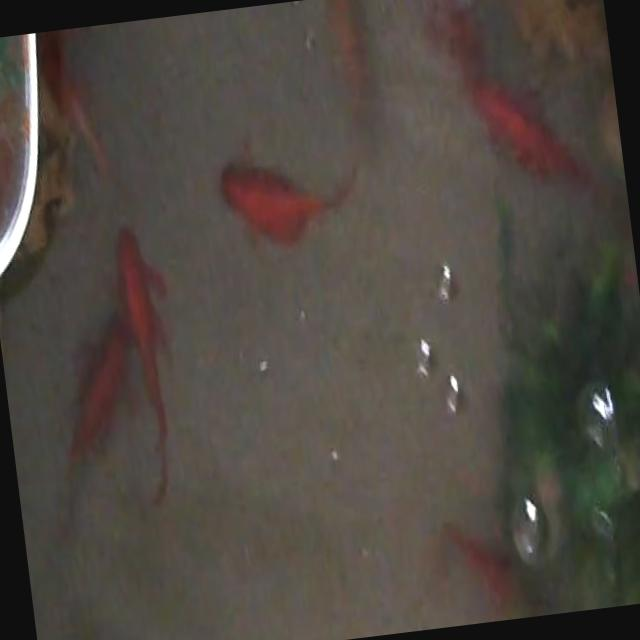fish: (35, 217, 196, 526), (465, 65, 599, 208), (212, 145, 370, 256), (30, 25, 116, 192), (434, 514, 526, 618), (322, 0, 377, 126)
